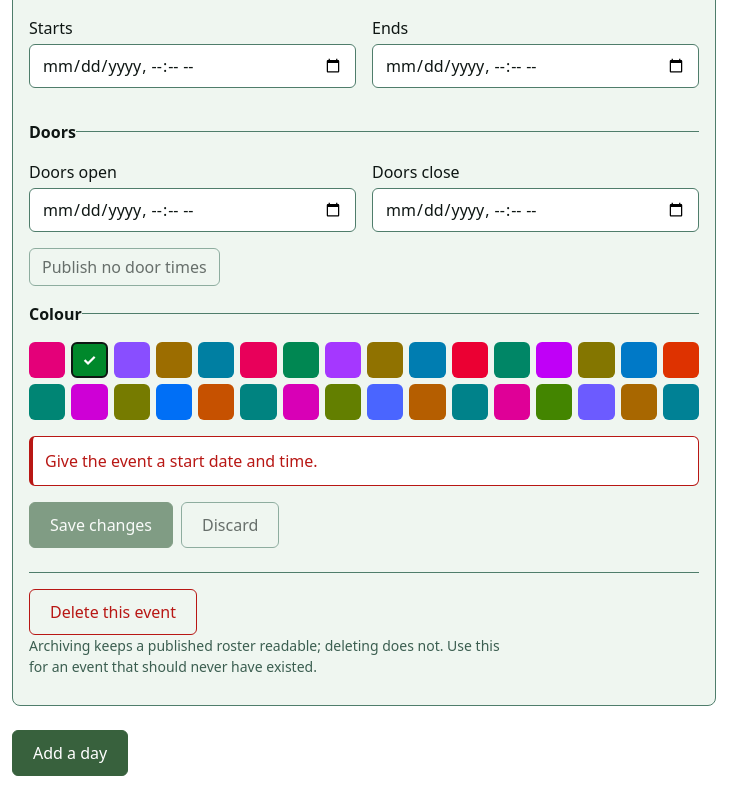
Test: adding a day from the details section › defaults the zone to the festival it is adding to
The width and height of the screenshot is (733, 793).
(page scrolled)
Click the button "Add a day" at (70, 753), box [12,730,128,776]
(page scrolled)
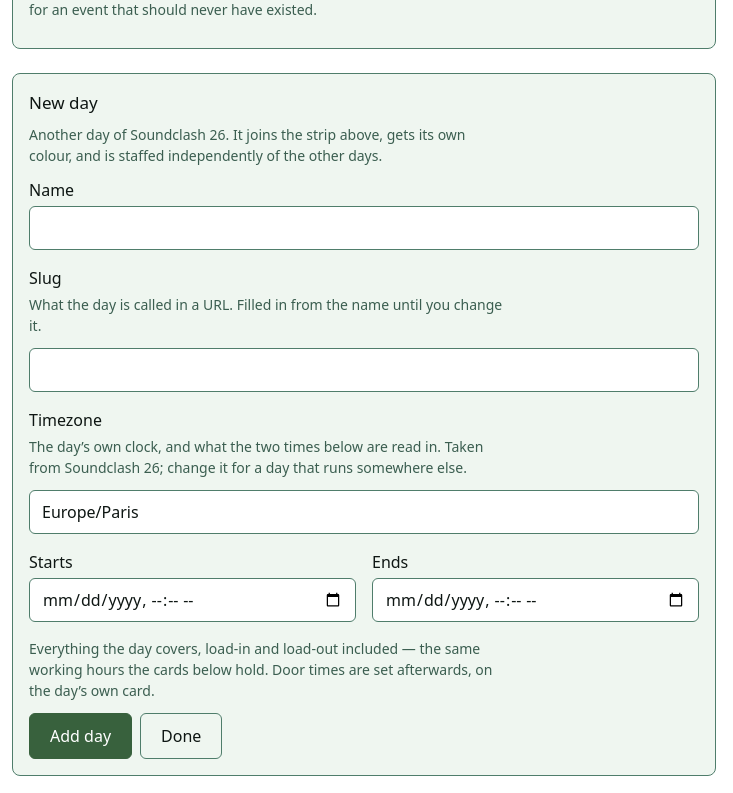
Expected: the field with id "evp-new-event-timezone" holds "Europe/Paris", [29,490,699,534]
